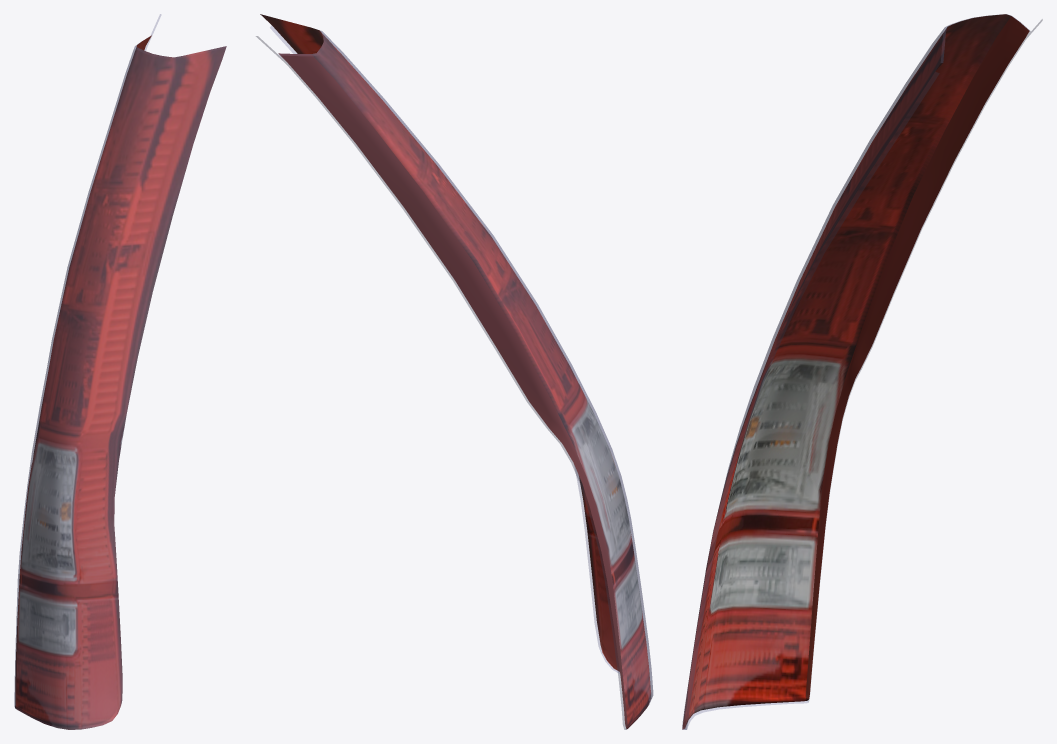
The picture shows the model from 3 angles, left to right: view 1: azimuth 30°, elevation 25°; view 2: azimuth 150°, elevation 25°; view 3: azimuth 270°, elevation 25°; orthographic projection. The views are drawn at different scales.
Visible parts, largest first — view 1: H811_541C_R_1_DTaSI_H811_541C_R, H811_541C_R_H811_541C_R_2_N; view 2: H811_541C_R_1_DTaSI_H811_541C_R, H811_541C_R_H811_541C_R_2_N; view 3: H811_541C_R_H811_541C_R_2_N, H811_541C_R_1_DTaSI_H811_541C_R.
Boxes of the visible parts, <box> form: H811_541C_R_1_DTaSI_H811_541C_R: <box>14,14,226,729</box>; H811_541C_R_H811_541C_R_2_N: <box>15,35,226,729</box>; H811_541C_R_1_DTaSI_H811_541C_R: <box>256,25,653,729</box>; H811_541C_R_H811_541C_R_2_N: <box>260,14,651,728</box>; H811_541C_R_H811_541C_R_2_N: <box>682,14,1029,729</box>; H811_541C_R_1_DTaSI_H811_541C_R: <box>682,14,1042,729</box>.
Size of the model in its own units: 40.19 by 85.97 by 33.31.
